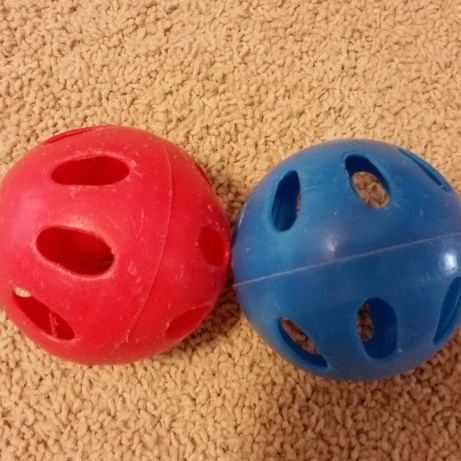blueball: (227, 133, 461, 384)
redball: (0, 120, 231, 361)
